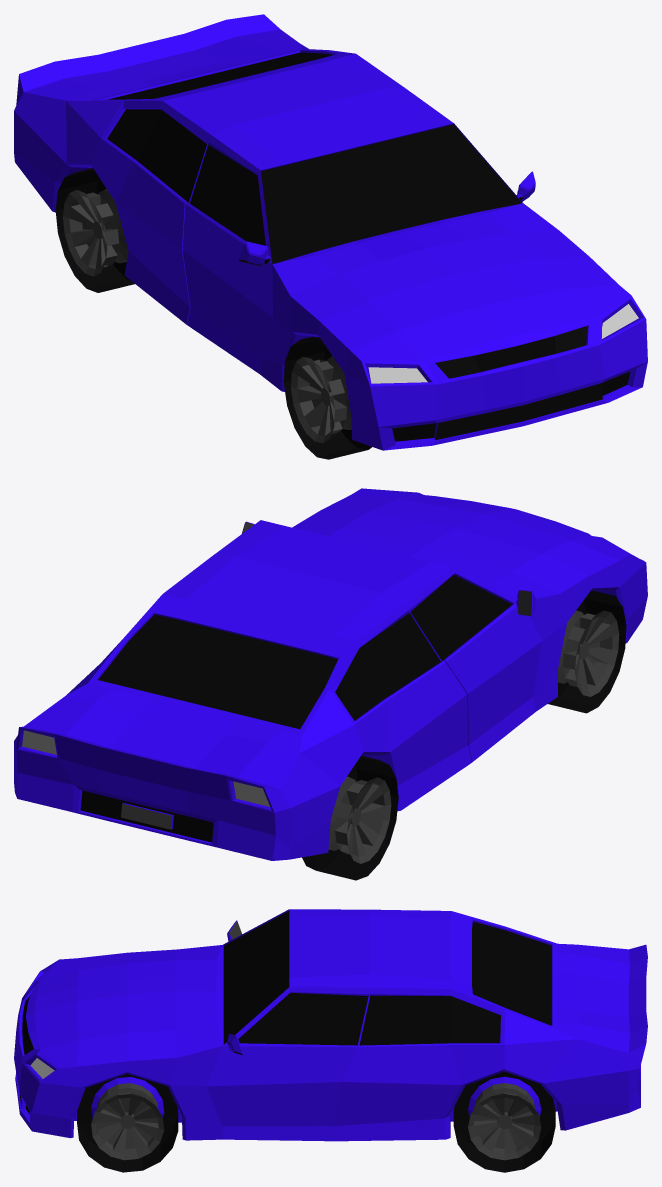
File: car_1_purple.obj
3 renders of one model, top to bottom at view 1: azimuth 30°, elevation 25°; view 2: azimuth 150°, elevation 25°; view 3: azimuth 270°, elevation 25°, orthographic. The views are drawn at different scales.
Parts seen in each view (by area): view 1: Cube; view 2: Cube; view 3: Cube.
Boxes of the visible parts, bbox=[...] form: Cube: bbox=[14, 14, 647, 459]; Cube: bbox=[14, 488, 647, 880]; Cube: bbox=[14, 909, 647, 1172].
Bounding box in the file's own units: 1.63 × 1.1 × 3.68.
